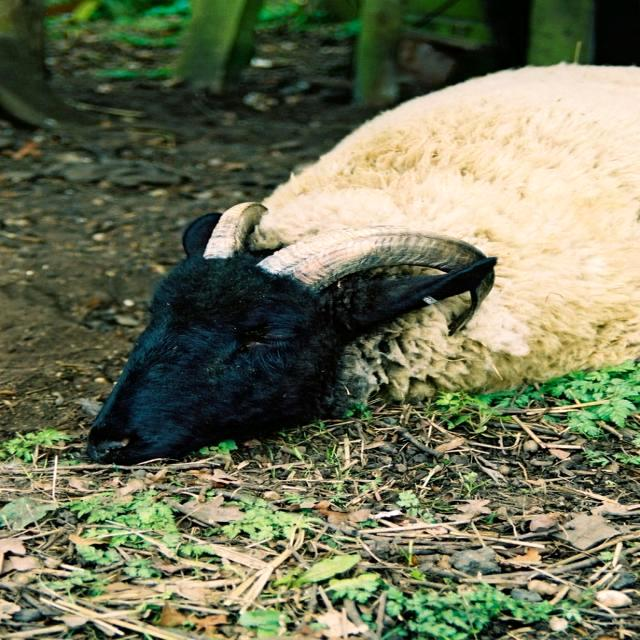sheep: (85, 62, 639, 465)
